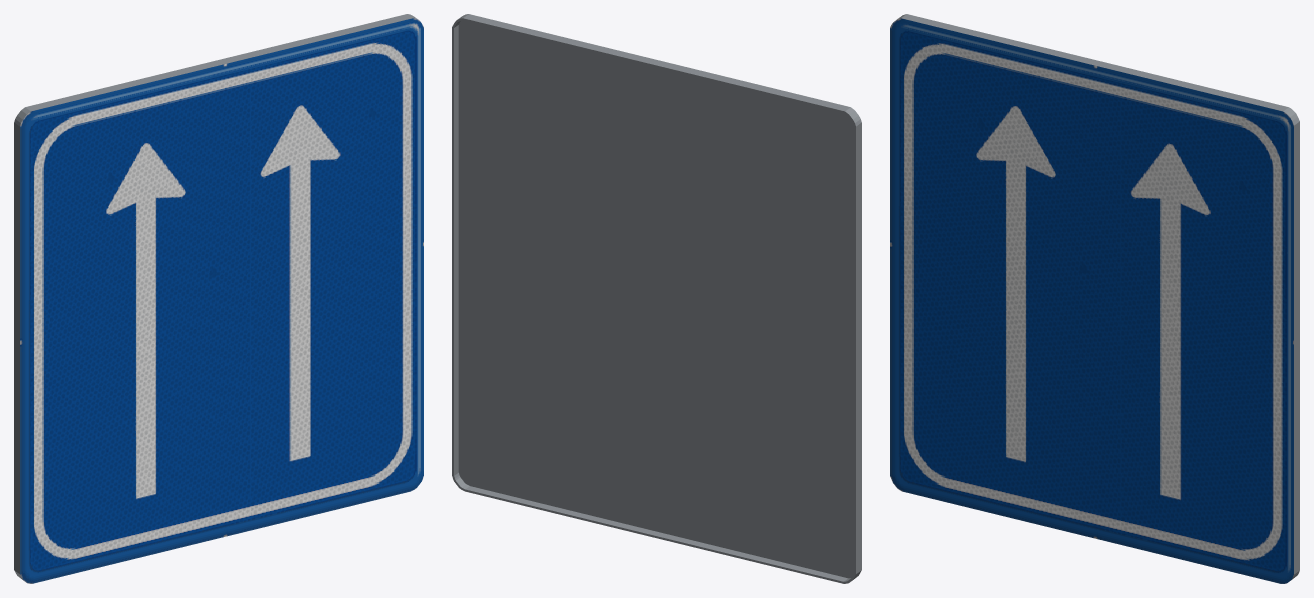
3 views of the same model, side by side, from view 1: azimuth 30°, elevation 25°; view 2: azimuth 150°, elevation 25°; view 3: azimuth 330°, elevation 25° (orthographic).
Visible parts, largest first — view 1: cat_925082e7700ee39c; view 2: cat_925082e7700ee39c; view 3: cat_925082e7700ee39c.
Boxes of the visible parts, bbox=[...] form: cat_925082e7700ee39c: bbox=[14, 14, 423, 583]; cat_925082e7700ee39c: bbox=[452, 14, 861, 583]; cat_925082e7700ee39c: bbox=[890, 14, 1299, 583].
Size of the model in its own units: 0.6 by 0.015 by 0.6711.
2 materials, 1 textured.
